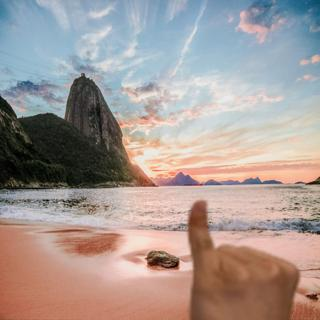FINE: (179, 197, 304, 320)
